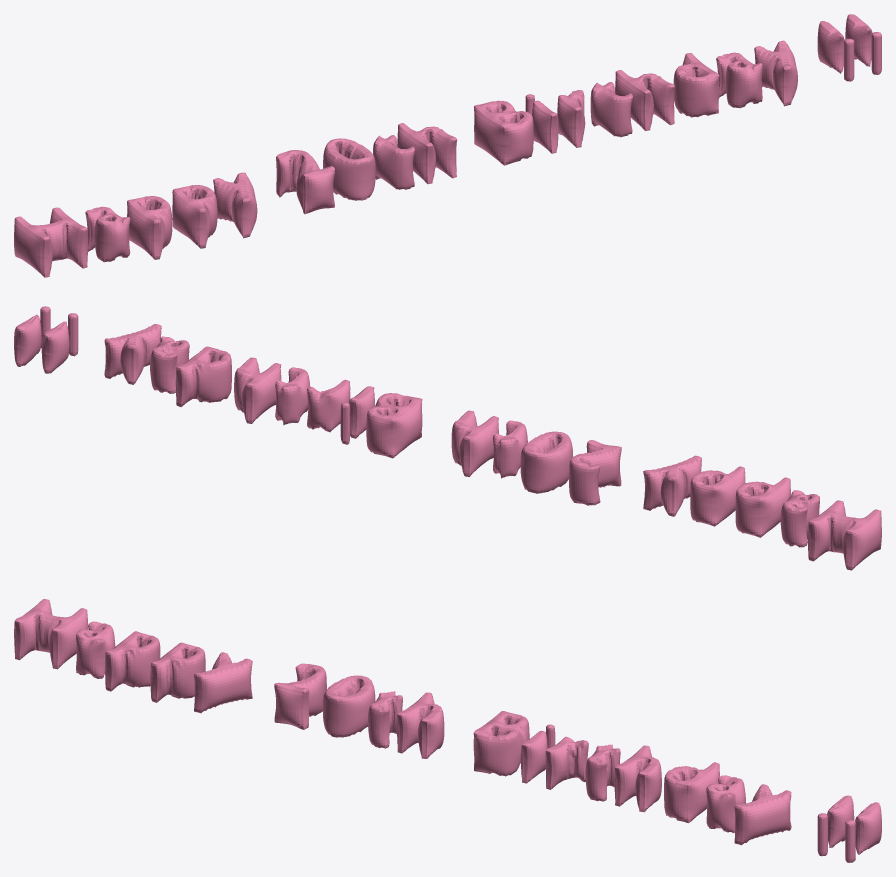
File: HBD.glb
3 views of the same model, one above another, from view 1: azimuth 30°, elevation 25°; view 2: azimuth 150°, elevation 25°; view 3: azimuth 330°, elevation 25° (orthographic).
Parts seen in each view (by area): view 1: テキスト; view 2: テキスト; view 3: テキスト.
Boxes of the visible parts, bbox=[...] form: テキスト: bbox=[14, 14, 881, 277]; テキスト: bbox=[14, 306, 881, 570]; テキスト: bbox=[14, 599, 881, 862].
Bounding box in the file's own units: 11.31 × 0.5177 × 0.9746.
